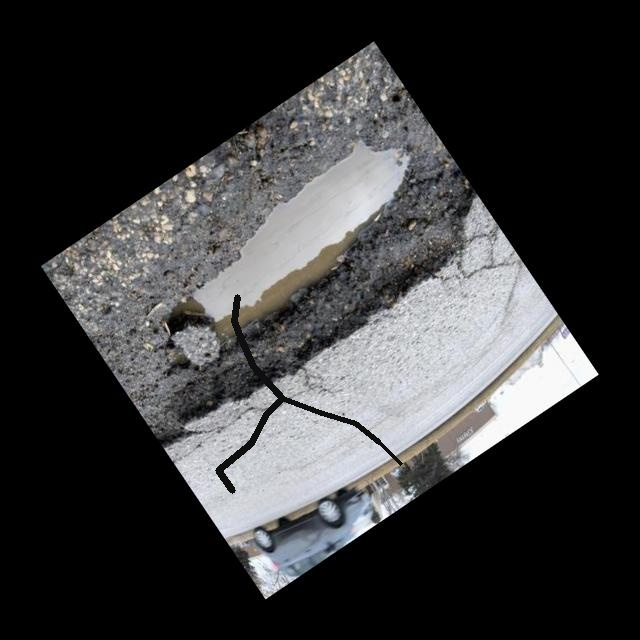road_crack: (208, 287, 292, 500)
